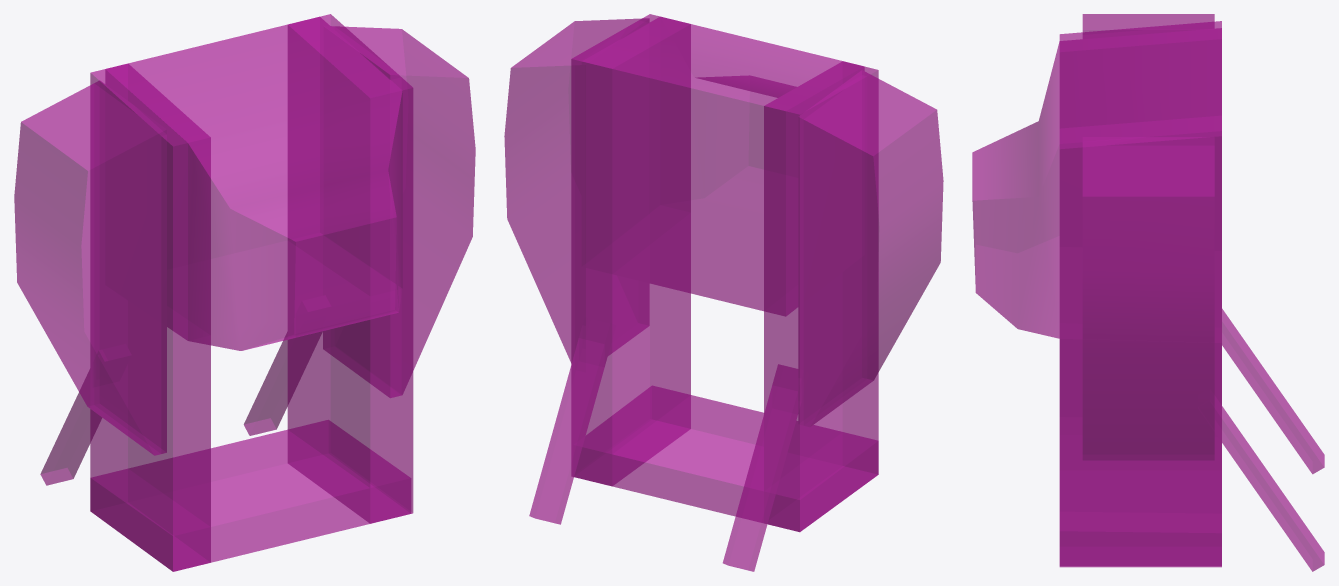
The model's file is SM_Prop_Entrance_Clown_01_Collision.fbx.
3 renders of one model, left to right at view 1: azimuth 30°, elevation 25°; view 2: azimuth 150°, elevation 25°; view 3: azimuth 270°, elevation 25°, orthographic. The views are drawn at different scales.
Visible parts, largest first — view 1: SM_Prop_Entrance_Clown_01_Collision; view 2: SM_Prop_Entrance_Clown_01_Collision; view 3: SM_Prop_Entrance_Clown_01_Collision.
Part boxes in pixels (bbox=[...]): SM_Prop_Entrance_Clown_01_Collision: bbox=[14, 14, 475, 571]; SM_Prop_Entrance_Clown_01_Collision: bbox=[504, 14, 943, 571]; SM_Prop_Entrance_Clown_01_Collision: bbox=[972, 14, 1324, 571].
Size of the model in its own units: 531 by 575 by 418.
